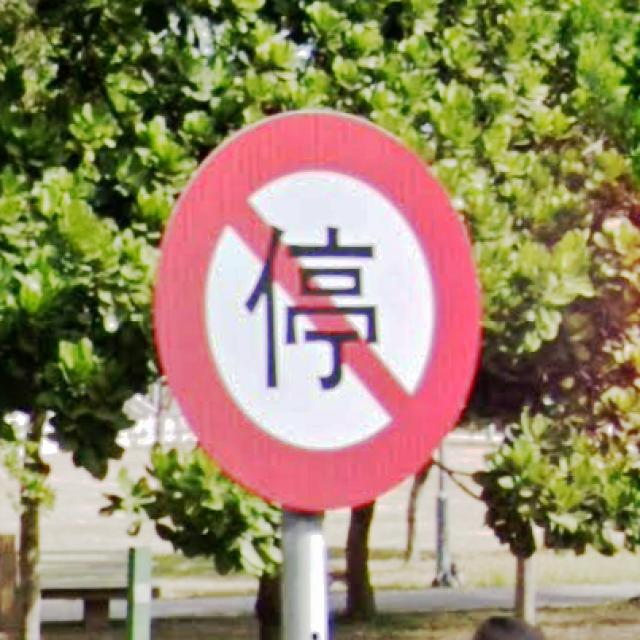nopark: (151, 105, 484, 513)
